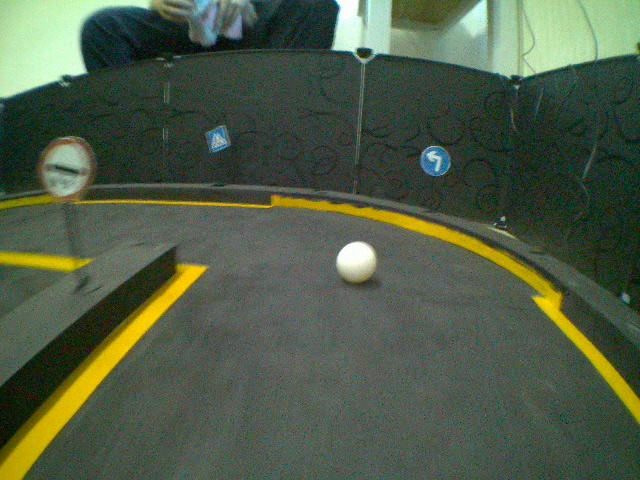ball: (335, 238, 377, 287)
